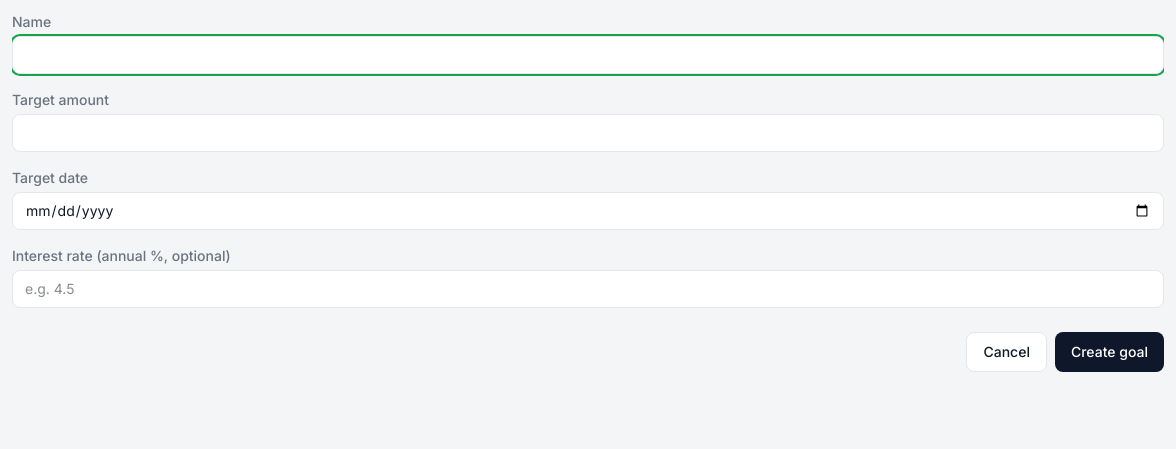
Test: SavingGoalForm › shows the API error and stays open when validation fails
Step 1. Type "Holiday" into the field labelled "Name" → (588, 55), box [12,36,1164,74]
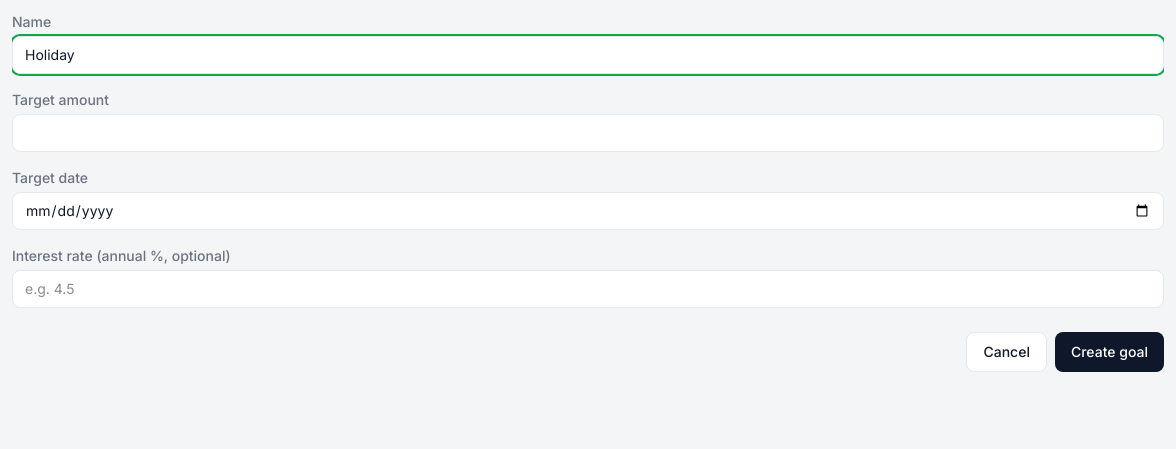
Step 2. Type "30000" into the number field labelled "Target amount" → (588, 133), box [12,114,1164,152]
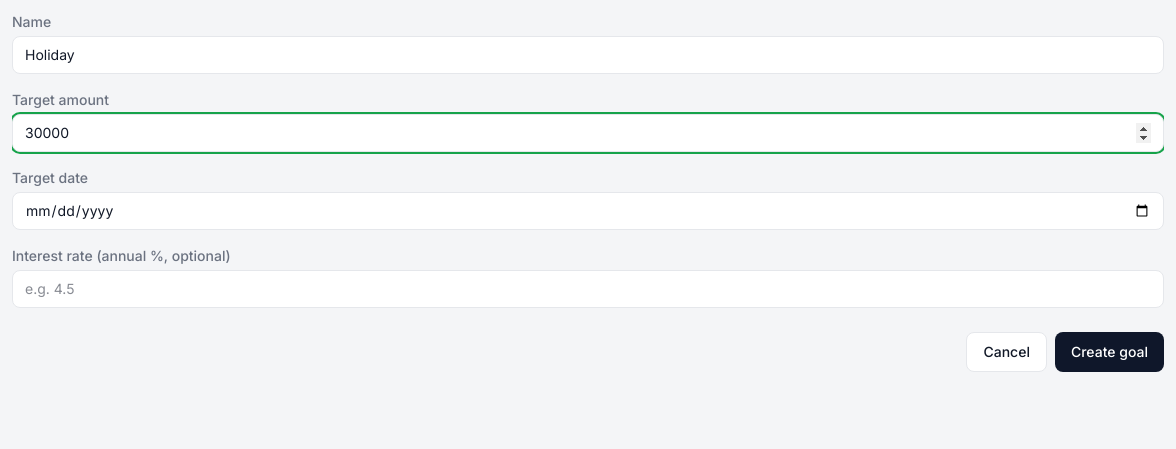
Step 3. Type "2027-06-15" into the date field labelled "Target date" → (588, 211), box [12,192,1164,230]
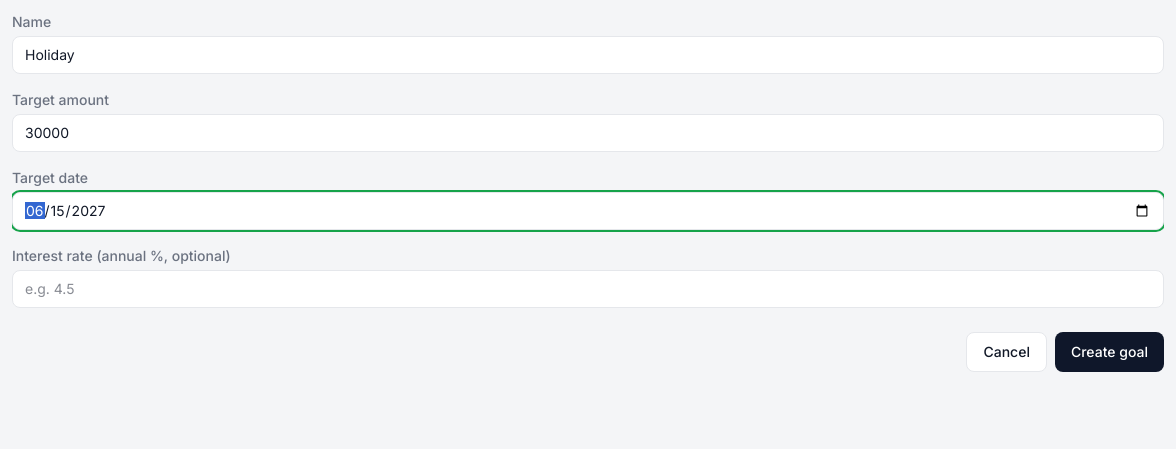
Step 4. Click the button "Create goal" → click(1109, 352), box [1055,332,1164,372]
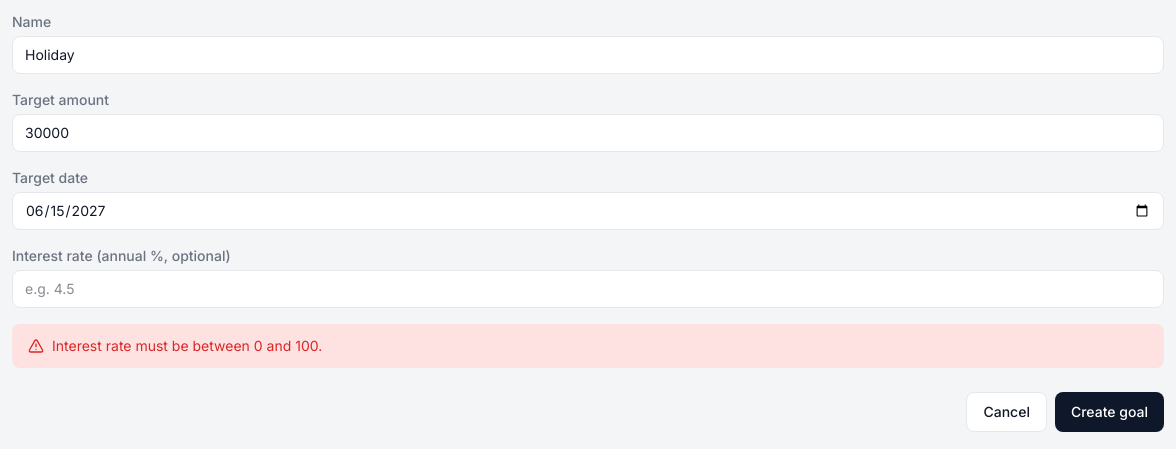
Now the text "Interest rate must be between 0 and 100." is shown, box [52,336,322,356]
